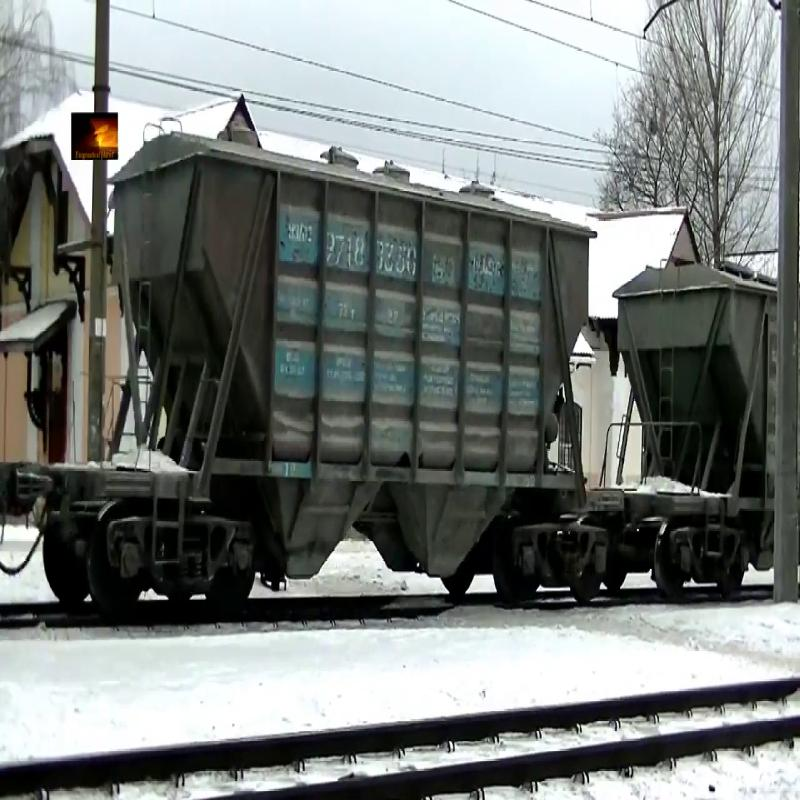train: (108, 148, 590, 614), (609, 259, 776, 603)
